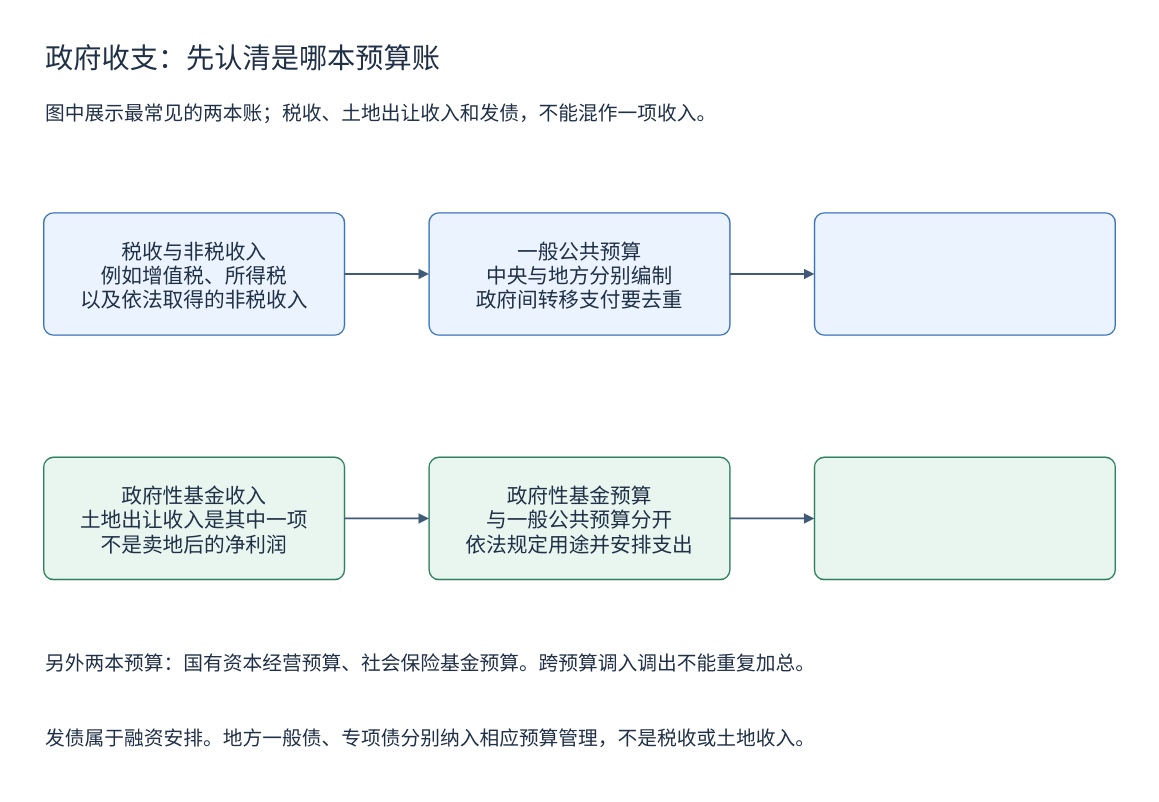
Image size: 1159x802. Some labels were removed from this diagram. The shapes that lost their labels are listed below. From the top down, each one's centre as x and y in pixels, then its label:
At point 964,273: "公共服务等支出 教育、社保就业、卫生等 具体用途须经预算安排".
At point 964,518: "相应项目与相关支出 例如土地开发等 收入不等于可任意支配额".
